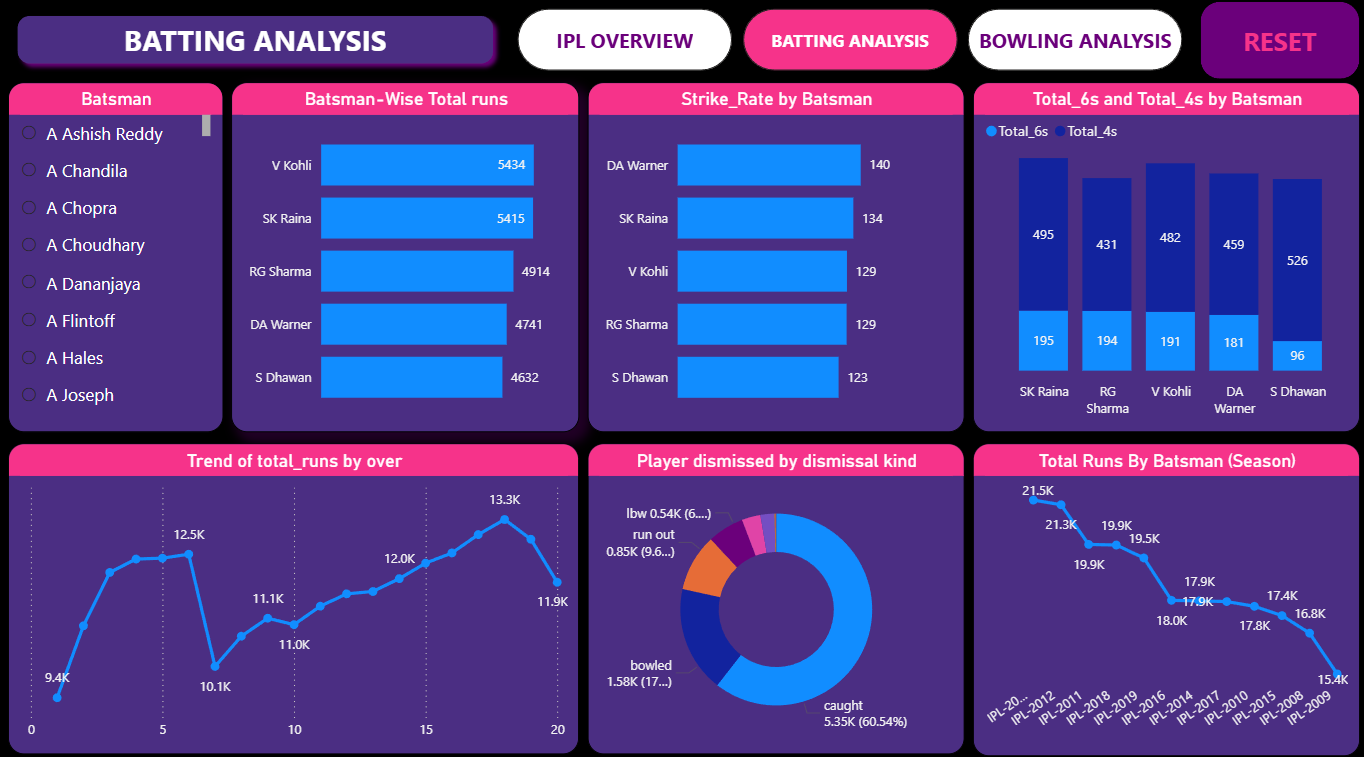

What the dashboard file says about the page in this screenshot:
{"tool":"powerbi","page":{"name":"BATTING ANALYSIS","canvas":[1280,720],"ordinal":1},"visuals":[{"type":"barChart","title":"Batsman-Wise Total runs","fields":{"Category":["deliveries.batsman"],"Y":["deliveries.batsman_runs"]},"box":[216.5,80.8,326.4,327.5],"z":0},{"type":"barChart","title":"Strike_Rate by Batsman","fields":{"Y":["Measures (2).Strike_Rate"],"Category":["deliveries.batsman"]},"box":[550.7,80.4,352.7,327.5],"z":1000},{"type":"columnChart","title":"Total_6s and Total_4s by Batsman","fields":{"Y":["Measures (2).Total_6s","Measures (2).Total_4s"],"Category":["deliveries.batsman"]},"box":[911.3,80.8,363,327.5],"z":2000},{"type":"lineChart","title":"Trend of total_runs by over ","fields":{"Category":["deliveries.over"],"Y":["deliveries.total_runs"]},"box":[7.2,418.7,535.1,291.5],"z":3000},{"type":"lineChart","title":"Total Runs By Batsman (Season)","fields":{"Category":["matches.Season"],"Y":["deliveries.batsman_runs"]},"box":[911.8,418.7,362.3,292.7],"z":4000},{"type":"listSlicer","title":"Batsman","fields":{"Values":["deliveries.batsman"]},"box":[7.5,80.8,201.4,327.5],"z":5000},{"type":"donutChart","title":"Player dismissed by dismissal kind","fields":{"Category":["deliveries.dismissal_kind"],"Y":["deliveries.player_dismissed"]},"box":[550.7,418.7,352.7,291.5],"z":6000},{"type":"pageNavigator","box":[484.7,11.8,624.8,58.2],"z":7000},{"type":"shape","box":[7.5,9.7,463.2,62.5],"z":8000},{"type":"shape","box":[1124.6,5.4,148.6,72.2],"z":10000}]}

Visuals, with their boxes in screenshot pixels (x1, y1, x2, y2), scaled from the page's 1280x720 canvas onto the 1364x757 screenshot:
"Batsman-Wise Total runs" barChart: x1=231 y1=85 x2=579 y2=429
"Strike_Rate by Batsman" barChart: x1=587 y1=85 x2=963 y2=429
"Total_6s and Total_4s by Batsman" columnChart: x1=971 y1=85 x2=1358 y2=429
"Trend of total_runs by over " lineChart: x1=8 y1=440 x2=578 y2=747
"Total Runs By Batsman (Season)" lineChart: x1=972 y1=440 x2=1358 y2=748
"Batsman" listSlicer: x1=8 y1=85 x2=223 y2=429
"Player dismissed by dismissal kind" donutChart: x1=587 y1=440 x2=963 y2=747
pageNavigator: x1=517 y1=12 x2=1182 y2=74
shape: x1=8 y1=10 x2=502 y2=76
shape: x1=1198 y1=6 x2=1357 y2=82
